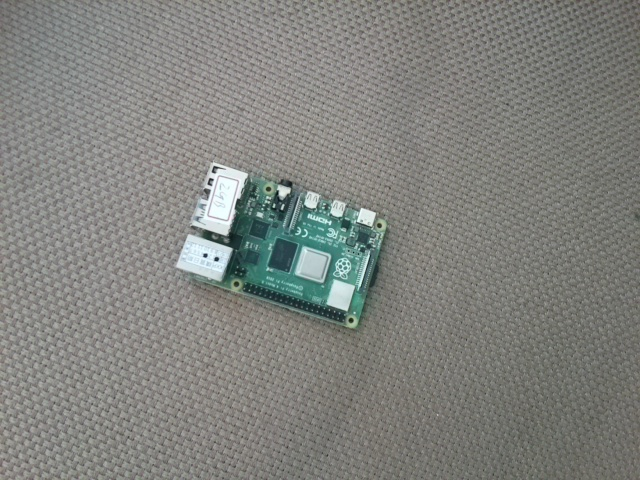Pi4: (171, 159, 391, 335)
